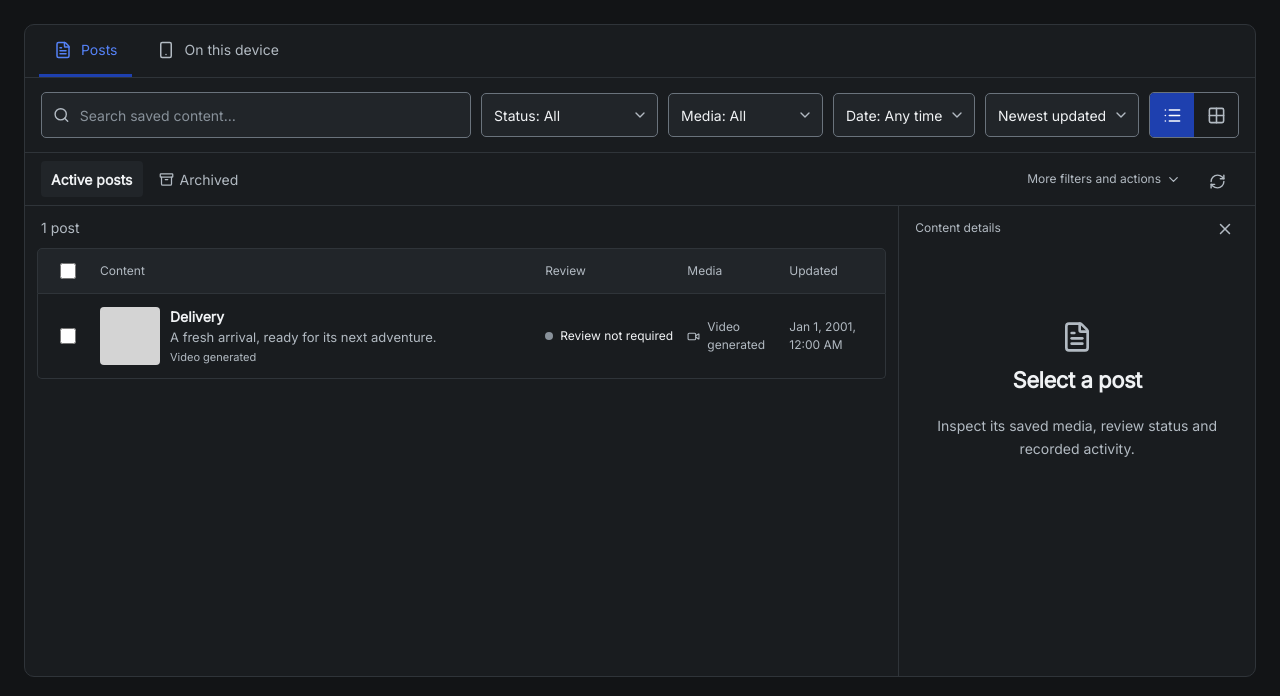
it: Content workspace › explains historical video unavailability and does not render a video player
(page scrolled)
Click the button with aria-label "Inspect Delivery" at (130, 336), box [100,294,877,378]
(page scrolled)
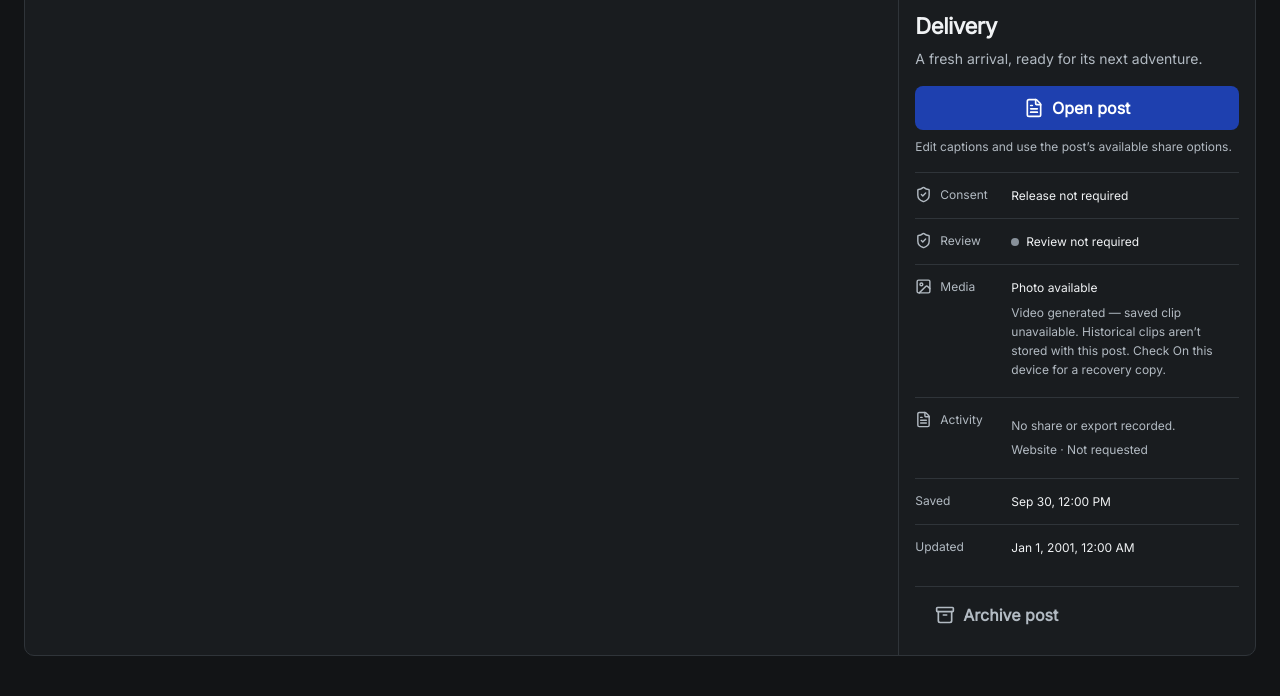
Check: the text "Video generated — saved clip unavailable" is shown, box [1011,304,1213,377]
